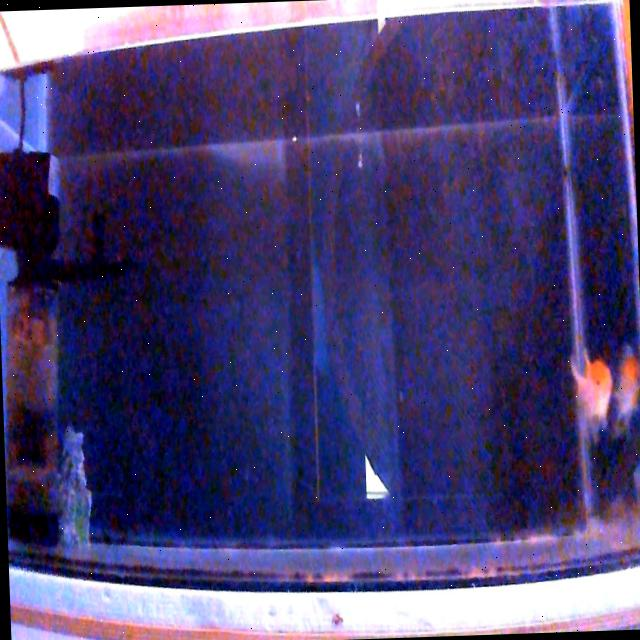fish: (571, 350, 614, 425), (611, 347, 640, 427)
